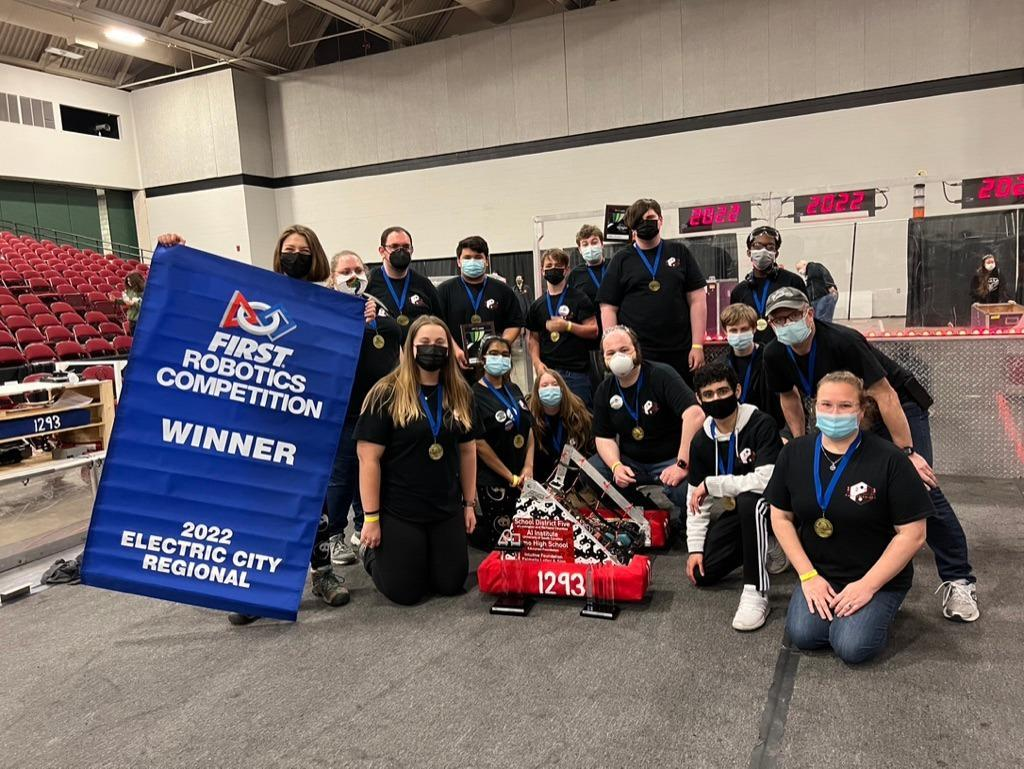robot: (474, 441, 676, 613)
